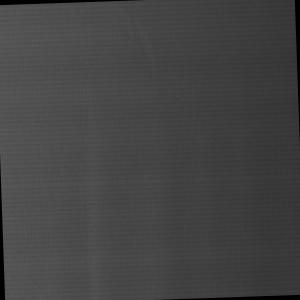Wrinkle: (118, 1, 165, 88)
